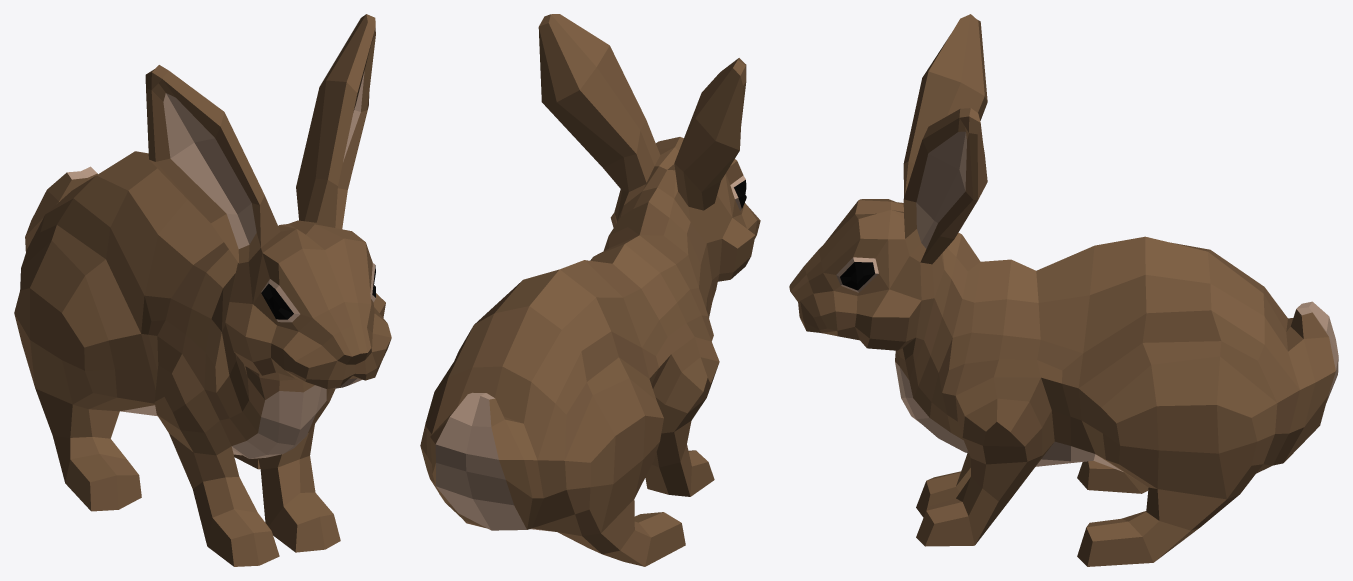
File: rabbit.fbx
3 views of the same model, side by side, from view 1: azimuth 30°, elevation 25°; view 2: azimuth 150°, elevation 25°; view 3: azimuth 270°, elevation 25° (orthographic). The views are drawn at different scales.
Visible parts, largest first — view 1: rabbit; view 2: rabbit; view 3: rabbit.
Boxes of the visible parts, x1,y1,x2,y2 form: rabbit: (14,14,391,566); rabbit: (420,14,760,566); rabbit: (789,14,1338,566).
Size of the model in its own units: 106 by 222 by 239.
